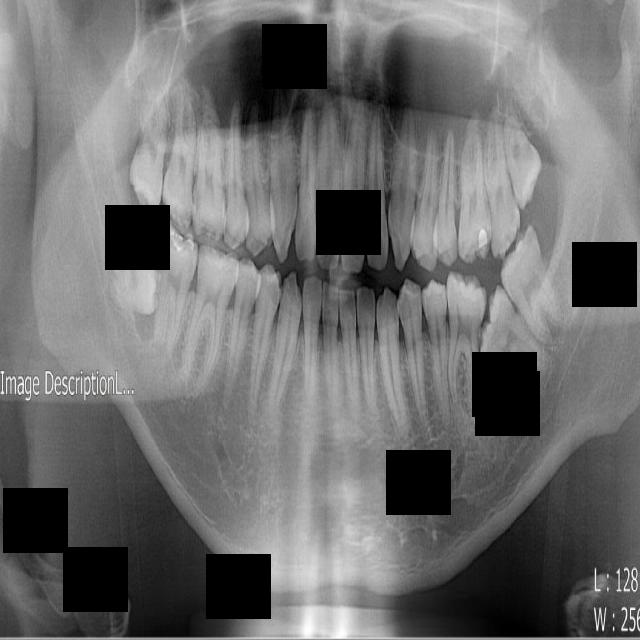3M ESPE Implant: (127, 97, 170, 217)
52: (144, 221, 210, 284), (455, 208, 495, 261)
73: (575, 557, 583, 572)
BioHorizons Implant: (478, 105, 524, 256)
BioLife Implant: (500, 113, 549, 210)
Biomet 3i Implant: (486, 215, 574, 359)
Blue Sky Bio Implant: (451, 285, 556, 402)
Caries: (159, 85, 199, 230)
Implant: (147, 217, 202, 354)
Keystone Dental Implant: (107, 222, 164, 313)
